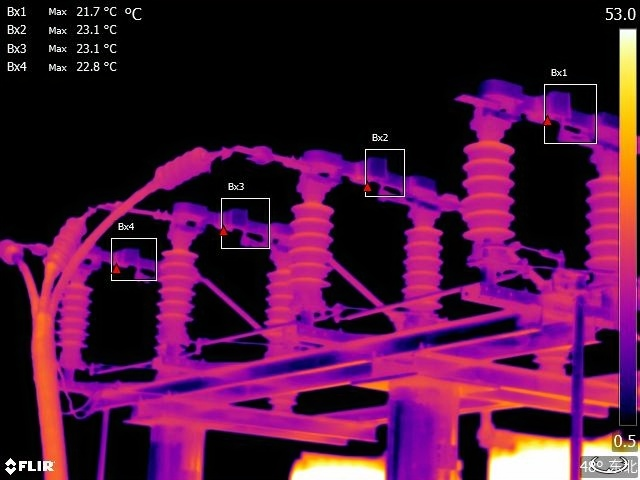post insulator: (282, 195, 342, 315), (459, 139, 525, 248), (146, 241, 198, 346), (396, 213, 446, 316), (582, 169, 620, 279), (58, 278, 91, 364), (263, 268, 293, 359)
switch: (470, 60, 618, 161), (297, 153, 448, 215), (161, 200, 289, 262), (75, 242, 159, 287)
